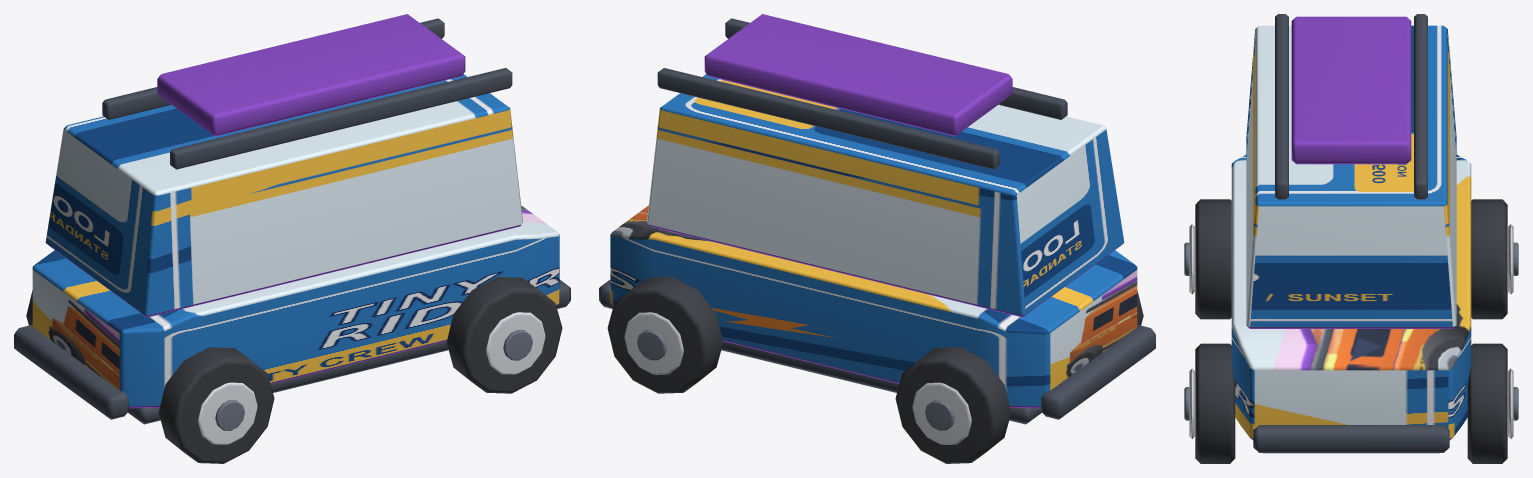
3 views of the same model, side by side, from view 1: azimuth 30°, elevation 25°; view 2: azimuth 150°, elevation 25°; view 3: azimuth 270°, elevation 25° (orthographic). The views are drawn at different scales.
Parts seen in each view (by area): view 1: CC-05_cabin, CC-05_connected_shell, utility load, utility rail, Tire.002, Tire, front bumper, Rim, underbody, Rim.002, utility rail.001, Hub (+1 smaller); view 2: CC-05_cabin, CC-05_connected_shell, utility load, utility rail.001, Tire.003, Tire.001, front bumper, Rim.001, underbody, Rim.003, utility rail, Hub.001 (+1 smaller); view 3: CC-05_cabin, CC-05_connected_shell, utility load, rear bumper, Tire.002, Tire.003, Tire, Tire.001, utility rail, utility rail.001, Rim, Rim.001 (+2 smaller).
Part boxes in pixels (x1=…): CC-05_cabin: x1=45, y1=74, x2=522, y2=317; CC-05_connected_shell: x1=32, y1=205, x2=559, y2=408; utility load: x1=157, y1=14, x2=465, y2=136; utility rail: x1=170, y1=68, x2=512, y2=169; Tire.002: x1=446, y1=277, x2=562, y2=393; Tire: x1=158, y1=347, x2=274, y2=463; front bumper: x1=14, y1=325, x2=129, y2=419; Rim: x1=198, y1=382, x2=257, y2=444; underbody: x1=128, y1=341, x2=448, y2=424; Rim.002: x1=486, y1=312, x2=545, y2=374; utility rail.001: x1=102, y1=18, x2=444, y2=119; Hub: x1=215, y1=400, x2=244, y2=430; CC-05_cabin: x1=647, y1=74, x2=1124, y2=317; CC-05_connected_shell: x1=610, y1=205, x2=1137, y2=408; utility load: x1=704, y1=14, x2=1012, y2=136; utility rail.001: x1=657, y1=68, x2=999, y2=169; Tire.003: x1=607, y1=277, x2=723, y2=393; Tire.001: x1=895, y1=347, x2=1011, y2=463; front bumper: x1=1040, y1=325, x2=1155, y2=419; Rim.001: x1=912, y1=382, x2=971, y2=444; underbody: x1=721, y1=341, x2=1041, y2=424; Rim.003: x1=624, y1=312, x2=683, y2=374; utility rail: x1=725, y1=18, x2=1067, y2=119; Hub.001: x1=925, y1=400, x2=954, y2=430; CC-05_cabin: x1=1246, y1=25, x2=1456, y2=328; CC-05_connected_shell: x1=1231, y1=154, x2=1471, y2=440; utility load: x1=1291, y1=16, x2=1411, y2=164; rear bumper: x1=1253, y1=425, x2=1449, y2=452; Tire.002: x1=1195, y1=343, x2=1235, y2=463; Tire.003: x1=1467, y1=343, x2=1507, y2=463; Tire: x1=1195, y1=199, x2=1231, y2=319; Tire.001: x1=1471, y1=199, x2=1507, y2=319; utility rail: x1=1275, y1=14, x2=1288, y2=199; utility rail.001: x1=1414, y1=14, x2=1427, y2=199; Rim: x1=1189, y1=224, x2=1194, y2=294; Rim.001: x1=1508, y1=224, x2=1513, y2=294.
Size of the model in its own units: 358 by 226 by 216.
